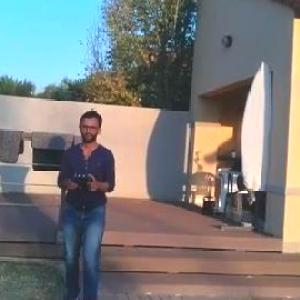follow: (51, 101, 120, 299)
